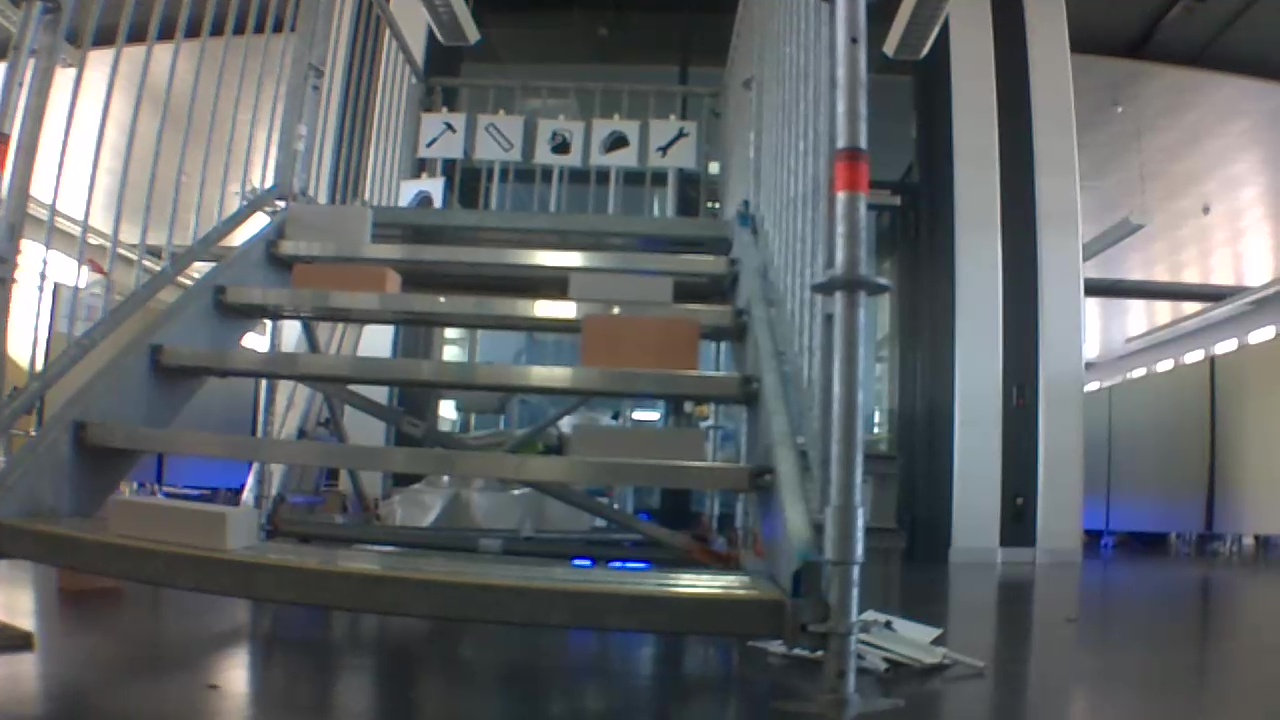brick: (109, 501, 259, 550), (581, 321, 700, 366), (563, 426, 708, 451), (282, 264, 403, 292), (280, 204, 374, 240), (563, 274, 672, 298)
bucket: (548, 127, 577, 156)
edge: (0, 521, 795, 643), (73, 422, 775, 496), (153, 344, 756, 403), (216, 283, 746, 332), (268, 238, 732, 277), (307, 206, 725, 232)
hammer: (424, 119, 462, 151)
ruler: (484, 121, 518, 152)
steps: (0, 205, 806, 654)
taco: (596, 126, 631, 158), (408, 186, 432, 210)
wrench: (655, 126, 690, 162)
